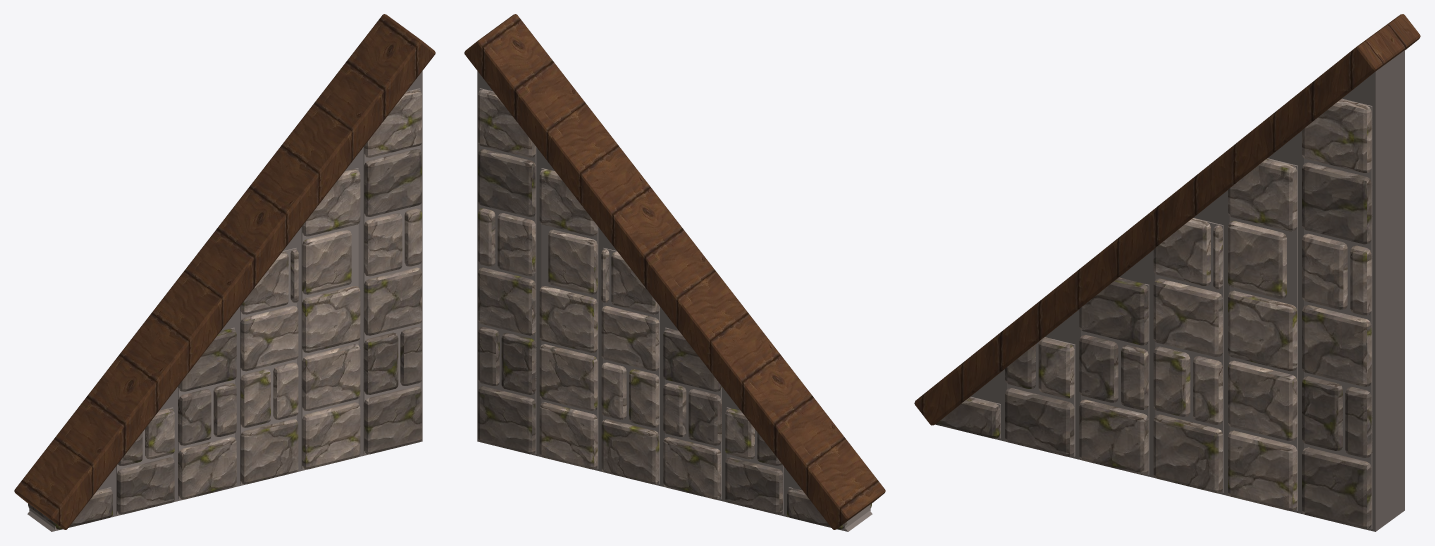
File: gable_45__cut_stone.glb
3 views of the same model, side by side, from view 1: azimuth 30°, elevation 25°; view 2: azimuth 150°, elevation 25°; view 3: azimuth 330°, elevation 25° (orthographic). The views are drawn at different scales.
Visible parts, largest first — view 1: model; view 2: model; view 3: model.
Part boxes in pixels (x1=…): model: x1=14, y1=14, x2=435, y2=531; model: x1=464, y1=14, x2=885, y2=531; model: x1=914, y1=14, x2=1420, y2=531.
Bounding box in the file's own units: 2.07 × 2.1 × 0.36.
Materials: 6 (4 with a texture image).
